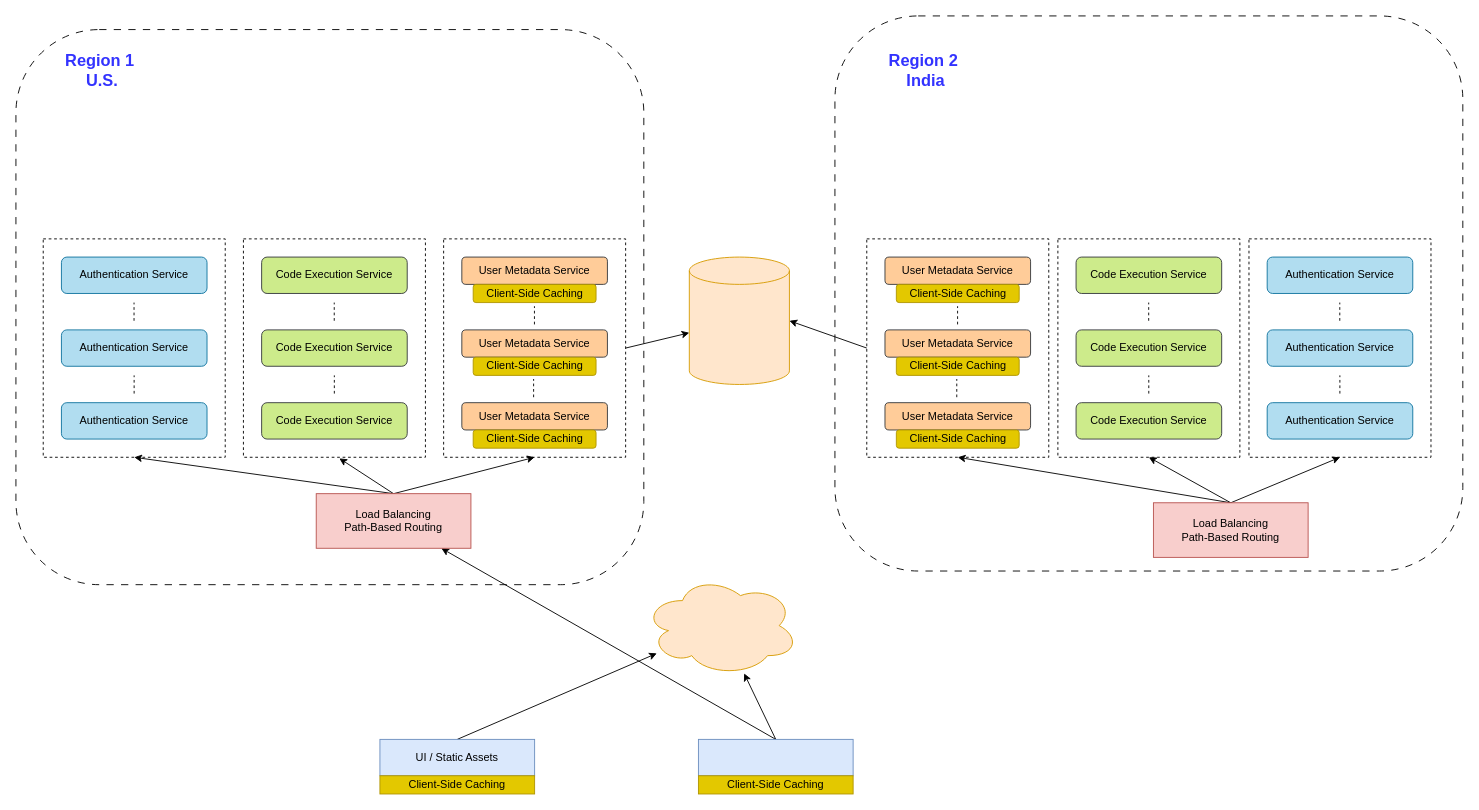
This 1479x810 diagram has some shape labels left out. The box of each missing label's shape, as (x1, y1, x2, y2) in pixels:
API Calls: (698, 738, 853, 776)
Blob Store List of Questions and Solutions: (688, 256, 789, 384)
DNS Load Balancing: (643, 575, 799, 676)
